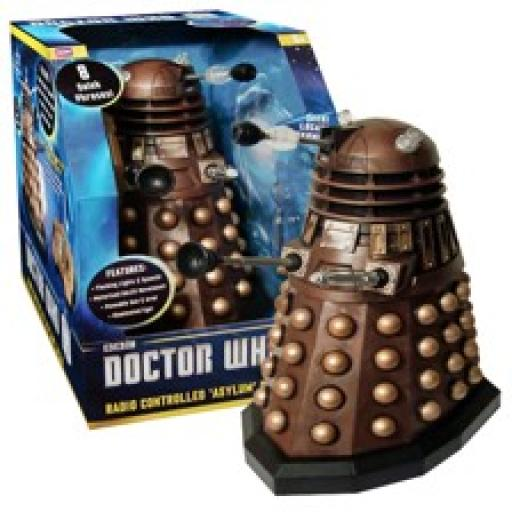dalek: (176, 117, 504, 496), (79, 52, 278, 343)
